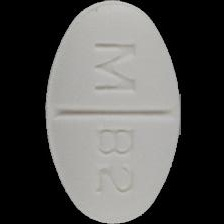60429-292: (0, 0, 224, 224)
